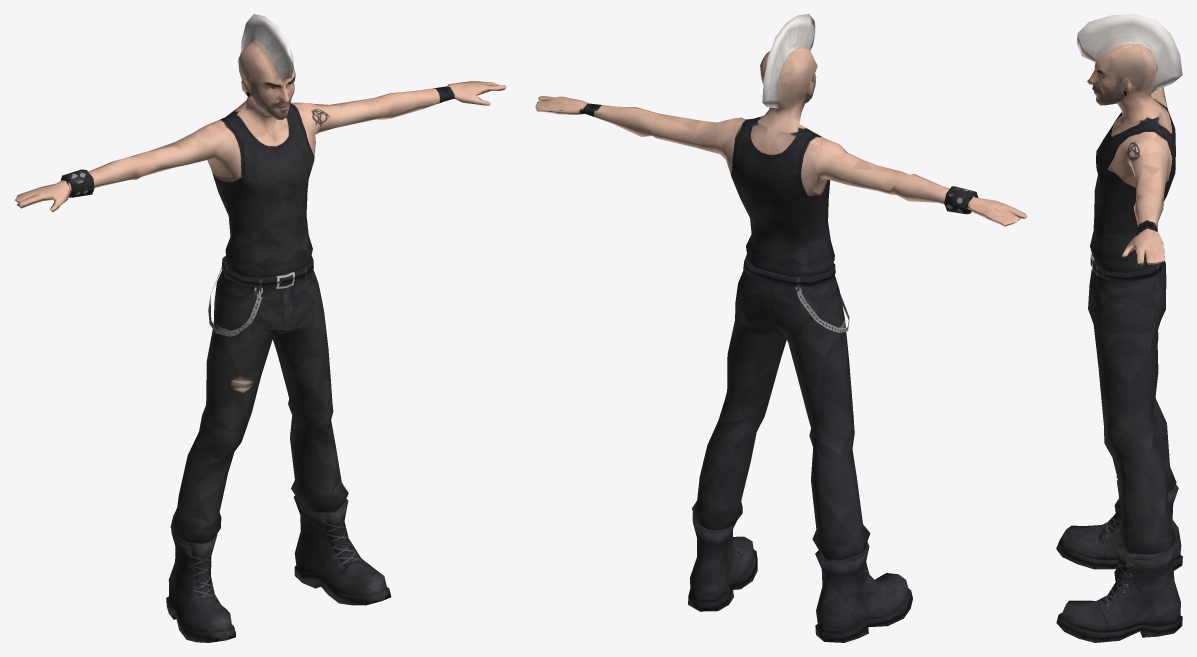
The model's file is thug_white_male_skinny.glb.
3 views of the same model, side by side, from view 1: azimuth 30°, elevation 25°; view 2: azimuth 150°, elevation 25°; view 3: azimuth 270°, elevation 25° (orthographic).
Bounding box in the file's own units: 0.8711 × 1 × 0.1978.
Materials: 1 (1 with a texture image).
